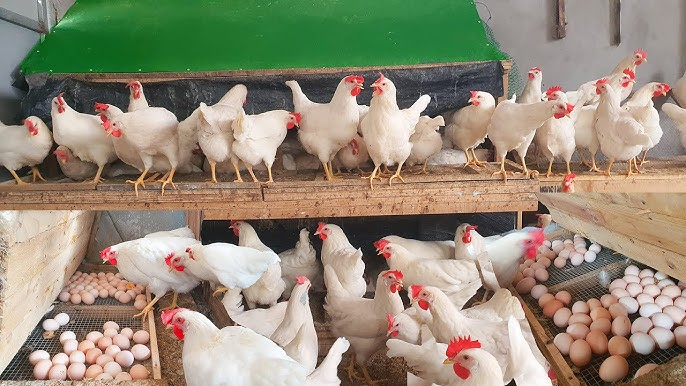Healthy: (279, 71, 369, 181), (588, 71, 649, 180), (228, 100, 304, 186), (438, 330, 510, 386), (155, 301, 209, 350), (367, 259, 411, 304), (362, 64, 405, 108), (448, 215, 489, 260), (159, 242, 197, 286), (407, 279, 443, 319), (371, 234, 409, 267), (97, 108, 130, 144), (463, 80, 496, 116), (94, 238, 130, 271), (311, 220, 349, 251), (117, 74, 152, 107), (520, 57, 551, 94), (287, 271, 318, 307), (624, 39, 652, 76), (546, 95, 578, 126), (20, 109, 47, 143), (48, 89, 74, 119)
